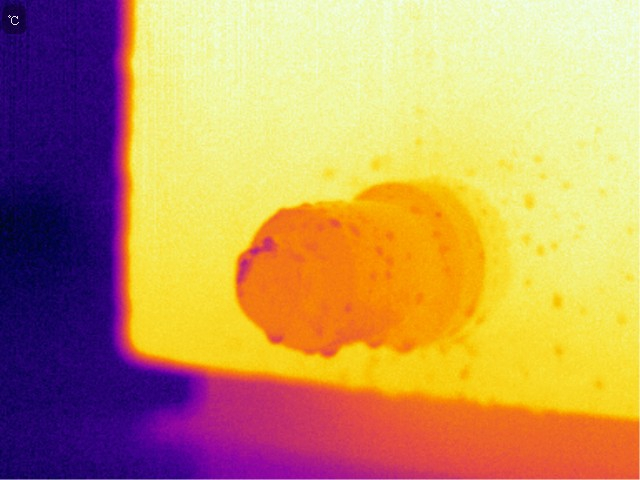Water: (371, 244, 397, 267), (392, 339, 416, 356), (320, 343, 340, 361), (364, 333, 385, 350), (265, 328, 286, 344), (326, 215, 343, 232), (464, 301, 477, 319), (303, 347, 319, 359)
